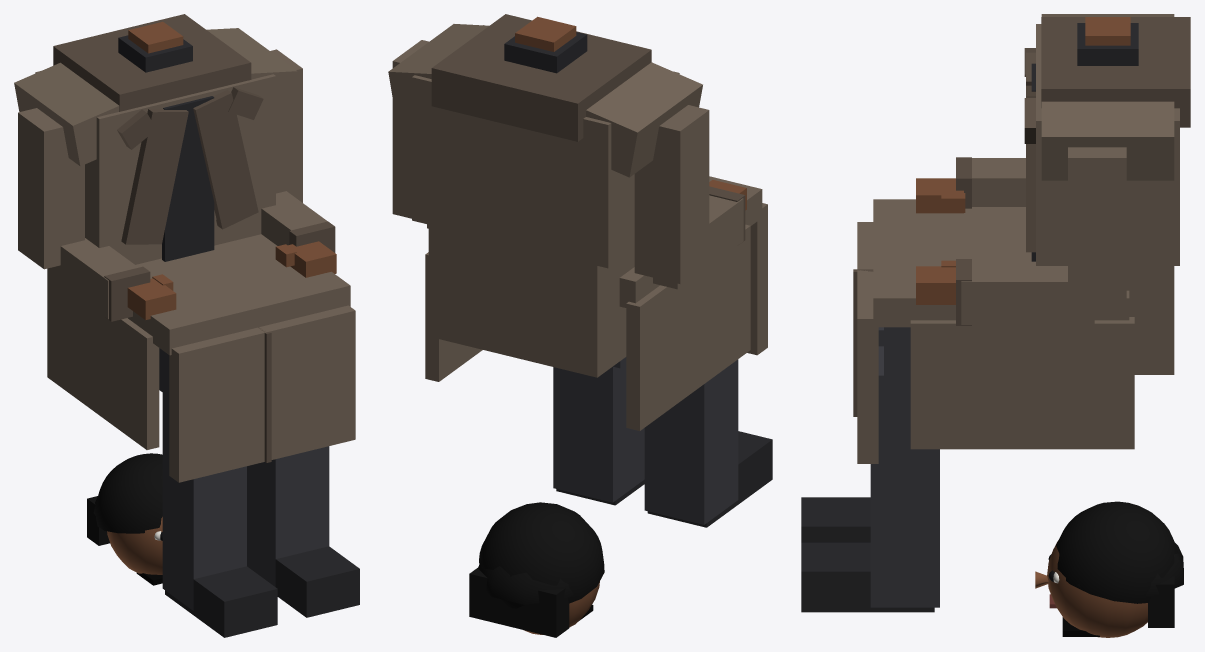
The model's file is passenger_overcoat.fbx.
3 renders of one model, left to right at view 1: azimuth 30°, elevation 25°; view 2: azimuth 150°, elevation 25°; view 3: azimuth 270°, elevation 25°, orthographic. The views are drawn at different scales.
Visible parts, largest first — view 1: Mesh_9, Mesh_13, Mesh_10, Mesh_11, Mesh_12, Mesh_0, Body_Skin, Head_Skin, Mesh_7; view 2: Mesh_9, Mesh_10, Mesh_13, Mesh_0, Mesh_7, Mesh_11, Mesh_12, Body_Skin, Head_Skin; view 3: Mesh_9, Mesh_10, Mesh_13, Mesh_0, Mesh_11, Body_Skin, Head_Skin, Mesh_12, Mesh_7.
Part boxes in pixels (x1=…): Mesh_9: x1=14, y1=28, x2=355, y2=482; Mesh_13: x1=53, y1=14, x2=335, y2=462; Mesh_10: x1=159, y1=348, x2=329, y2=610; Mesh_11: x1=165, y1=546, x2=359, y2=637; Mesh_12: x1=118, y1=35, x2=214, y2=261; Mesh_0: x1=95, y1=453, x2=162, y2=533; Body_Skin: x1=127, y1=21, x2=336, y2=320; Head_Skin: x1=107, y1=517, x2=162, y2=574; Mesh_7: x1=87, y1=496, x2=131, y2=545; Mesh_9: x1=388, y1=24, x2=767, y2=430; Mesh_10: x1=553, y1=357, x2=738, y2=524; Mesh_13: x1=431, y1=14, x2=745, y2=244; Mesh_0: x1=479, y1=502, x2=604, y2=608; Mesh_7: x1=469, y1=560, x2=573, y2=637; Mesh_11: x1=556, y1=431, x2=772, y2=527; Mesh_12: x1=504, y1=32, x2=587, y2=73; Body_Skin: x1=515, y1=16, x2=746, y2=210; Head_Skin: x1=523, y1=581, x2=599, y2=634; Mesh_9: x1=857, y1=14, x2=1179, y2=463; Mesh_10: x1=870, y1=327, x2=939, y2=607; Mesh_13: x1=853, y1=17, x2=1190, y2=416; Mesh_0: x1=1056, y1=501, x2=1178, y2=603; Mesh_11: x1=801, y1=497, x2=934, y2=612; Body_Skin: x1=916, y1=17, x2=1130, y2=304; Head_Skin: x1=1035, y1=540, x2=1147, y2=637; Mesh_12: x1=1031, y1=23, x2=1138, y2=261; Mesh_7: x1=1077, y1=543, x2=1183, y2=627.
Size of the model in its own units: 0.6298 by 1.26 by 0.73.
